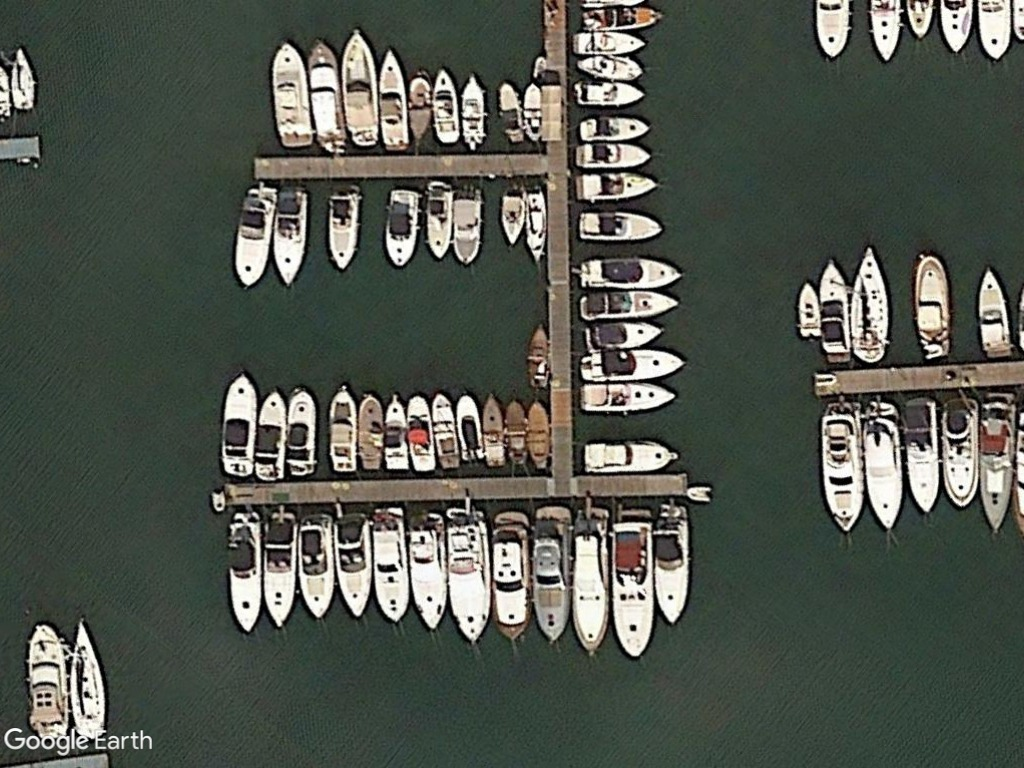boat: (610, 501, 658, 660), (567, 502, 613, 658), (444, 503, 493, 645), (819, 400, 866, 536), (488, 505, 532, 646), (403, 503, 450, 635), (530, 503, 573, 645), (860, 398, 904, 535), (843, 241, 891, 365), (23, 619, 72, 740), (976, 386, 1015, 537), (365, 503, 411, 630), (650, 499, 694, 627), (897, 391, 941, 518), (224, 505, 266, 636), (301, 36, 348, 153), (266, 39, 315, 148), (259, 506, 299, 633), (908, 250, 953, 361), (940, 393, 981, 514), (339, 26, 378, 152), (232, 180, 277, 289), (330, 507, 372, 621), (297, 508, 338, 624), (214, 371, 258, 479), (70, 618, 106, 737), (576, 253, 686, 291), (273, 183, 311, 289), (373, 44, 409, 155), (975, 261, 1015, 360), (380, 181, 423, 271), (575, 349, 690, 382), (819, 254, 853, 365), (323, 181, 362, 277), (576, 378, 683, 412), (580, 437, 681, 473), (577, 288, 684, 320), (252, 387, 288, 481), (284, 383, 317, 480), (401, 62, 436, 151), (568, 169, 659, 203), (450, 180, 485, 267), (574, 208, 663, 242), (426, 65, 461, 151), (326, 381, 357, 477), (576, 0, 666, 32), (427, 391, 463, 471), (421, 177, 453, 266), (455, 67, 487, 153), (578, 321, 669, 351), (354, 390, 385, 476), (404, 391, 435, 475), (521, 179, 549, 269), (566, 26, 649, 56), (478, 392, 509, 472), (576, 113, 655, 144), (381, 391, 410, 475), (5, 44, 40, 113), (570, 51, 646, 82), (570, 142, 654, 170), (522, 398, 554, 471), (452, 389, 482, 465), (570, 77, 645, 107), (793, 276, 824, 344), (497, 182, 527, 251), (494, 78, 523, 146), (502, 397, 528, 470), (517, 79, 544, 148), (526, 320, 550, 393), (684, 483, 716, 504)
